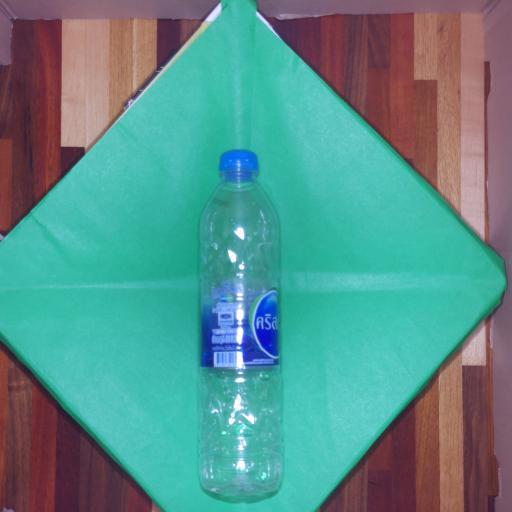bottle: (180, 138, 296, 510)
